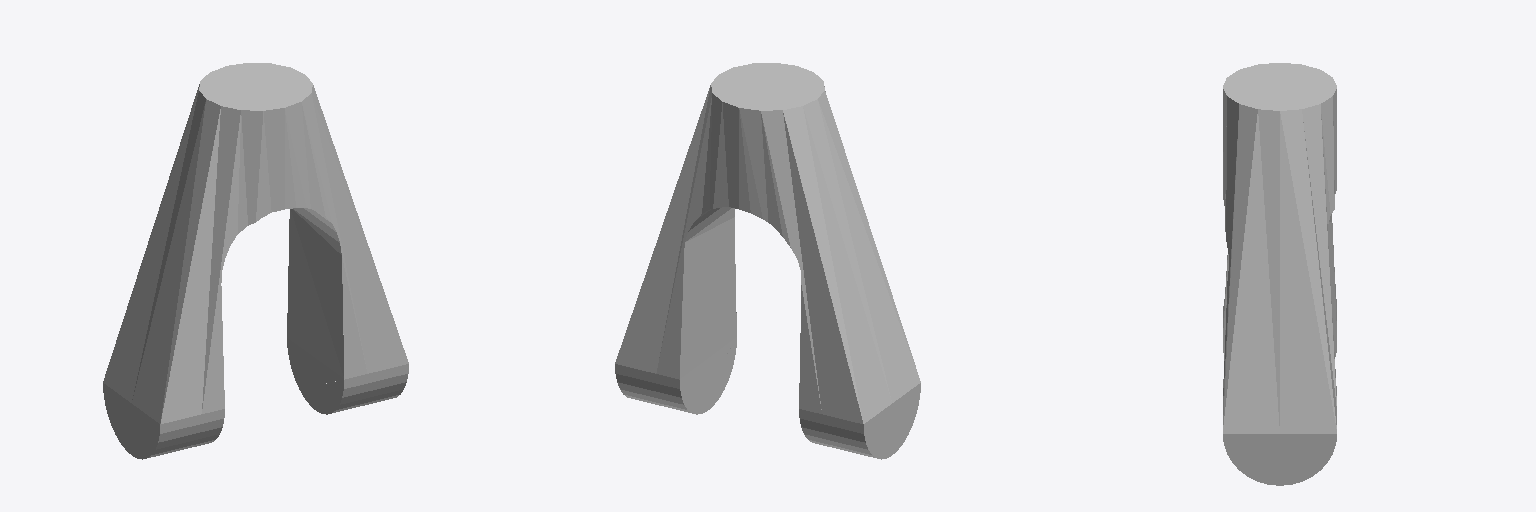
File: articulation4O.obj
The picture shows the model from 3 angles: view 1: azimuth 30°, elevation 25°; view 2: azimuth 150°, elevation 25°; view 3: azimuth 270°, elevation 25°; orthographic projection.
Visible parts, largest first — view 1: Cylinder_Cylinder.001; view 2: Cylinder_Cylinder.001; view 3: Cylinder_Cylinder.001.
Part boxes in pixels (x1,y1,x2,y2): Cylinder_Cylinder.001: (103, 63, 408, 459); Cylinder_Cylinder.001: (615, 63, 920, 459); Cylinder_Cylinder.001: (1223, 63, 1336, 485).
Bounding box in the file's own units: 5 × 6.5 × 2.